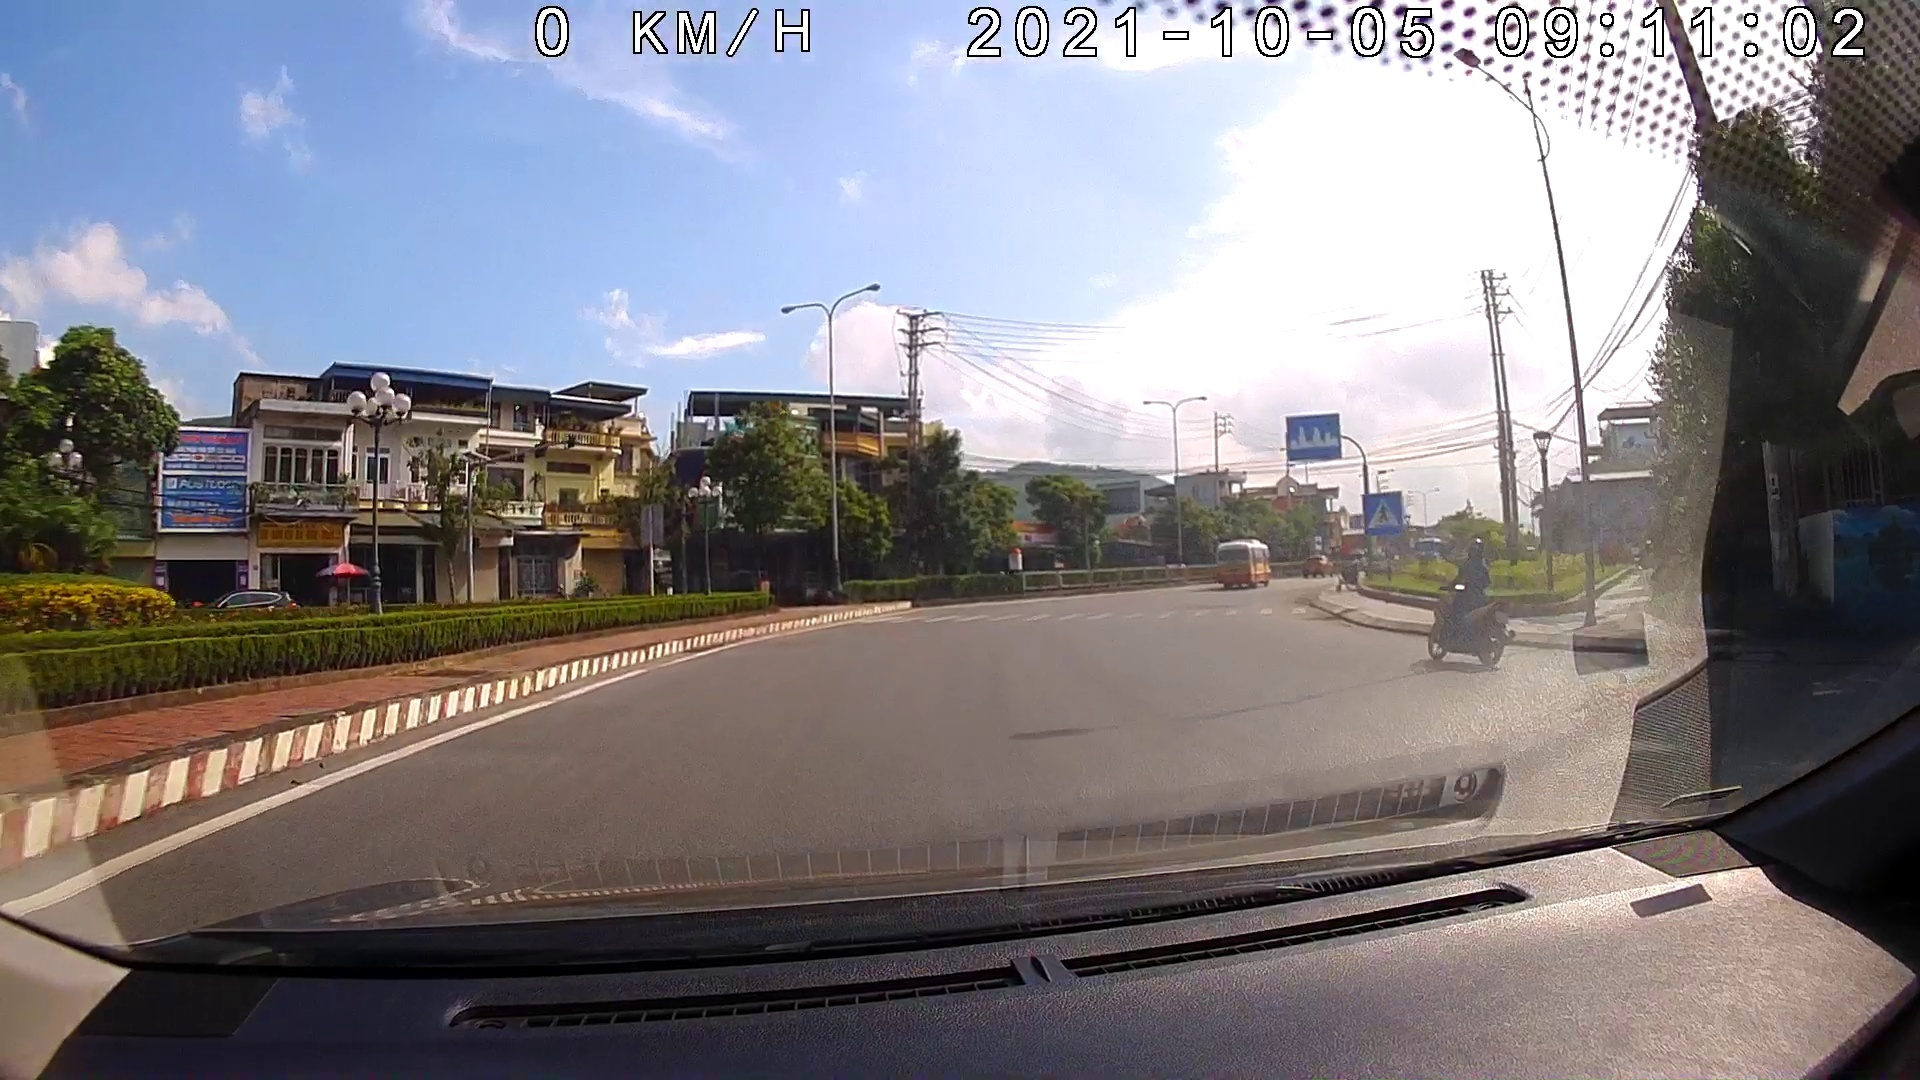Bien khac: (1284, 410, 1338, 458)
Nguoi di bo: (1362, 489, 1402, 534)
